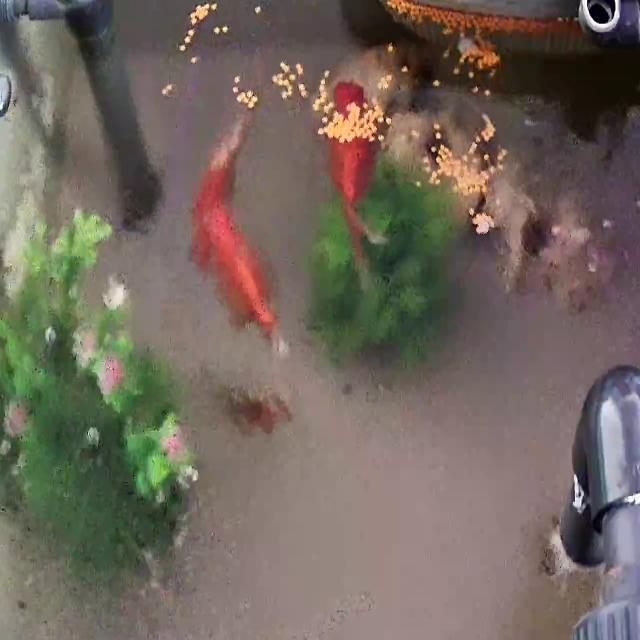fish: (201, 213, 304, 362), (192, 109, 268, 270), (324, 80, 378, 267), (223, 384, 295, 438)
